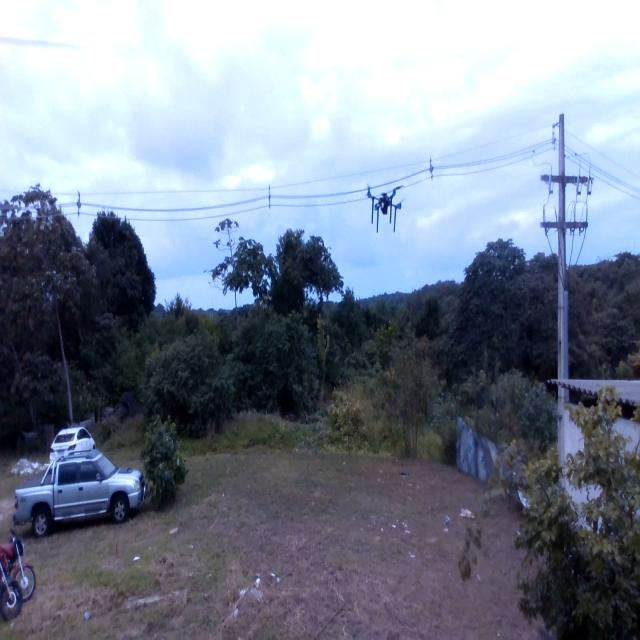-uav-: (358, 164, 414, 252)
